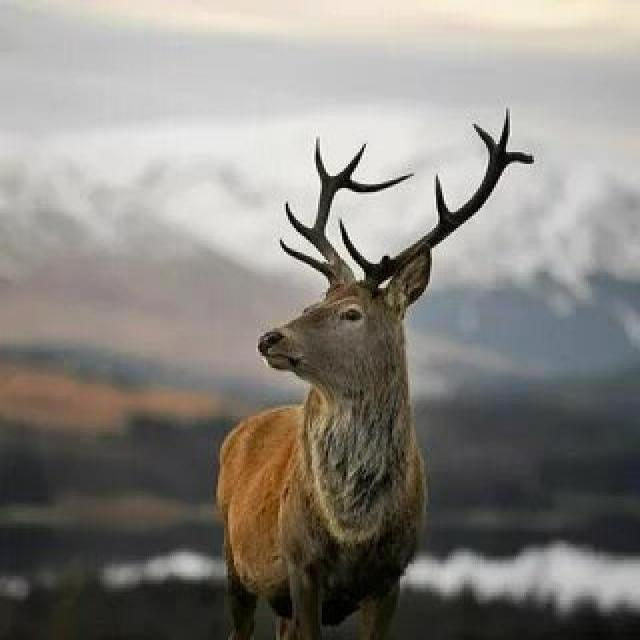deer: (200, 112, 566, 640)
